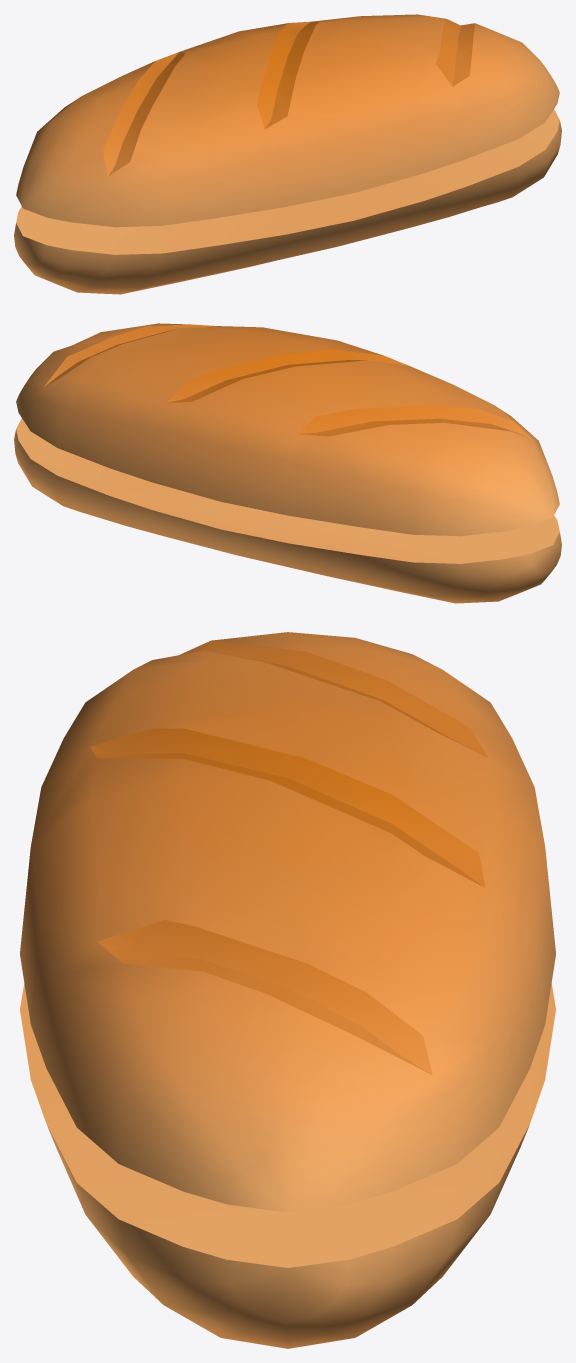
Rendered from Sandwich_Loaf_top.001.fbx.
3 renders of one model, top to bottom at view 1: azimuth 30°, elevation 25°; view 2: azimuth 150°, elevation 25°; view 3: azimuth 270°, elevation 25°, orthographic. The views are drawn at different scales.
Parts seen in each view (by area): view 1: Sandwich_Loaf_top.001, Sandwich_Loaf_Bottom.001; view 2: Sandwich_Loaf_top.001, Sandwich_Loaf_Bottom.001; view 3: Sandwich_Loaf_top.001, Sandwich_Loaf_Bottom.001.
Boxes of the visible parts, bbox=[...] form: Sandwich_Loaf_top.001: bbox=[16, 14, 559, 227]; Sandwich_Loaf_Bottom.001: bbox=[14, 109, 561, 294]; Sandwich_Loaf_top.001: bbox=[16, 323, 559, 536]; Sandwich_Loaf_Bottom.001: bbox=[14, 418, 561, 603]; Sandwich_Loaf_top.001: bbox=[20, 632, 555, 1212]; Sandwich_Loaf_Bottom.001: bbox=[20, 984, 555, 1348].
Bounding box in the file's own units: 172 × 58.21 × 75.14.
